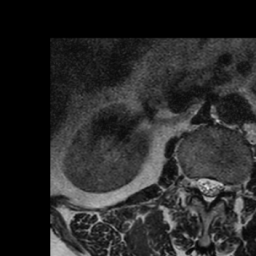CCS_normal: (205, 170, 213, 215)
LFS_stenosis: (223, 178, 233, 198)
LLS_normal: (213, 174, 223, 201)
RFS_normal: (187, 170, 197, 197)
RLS_normal: (197, 172, 205, 200)
